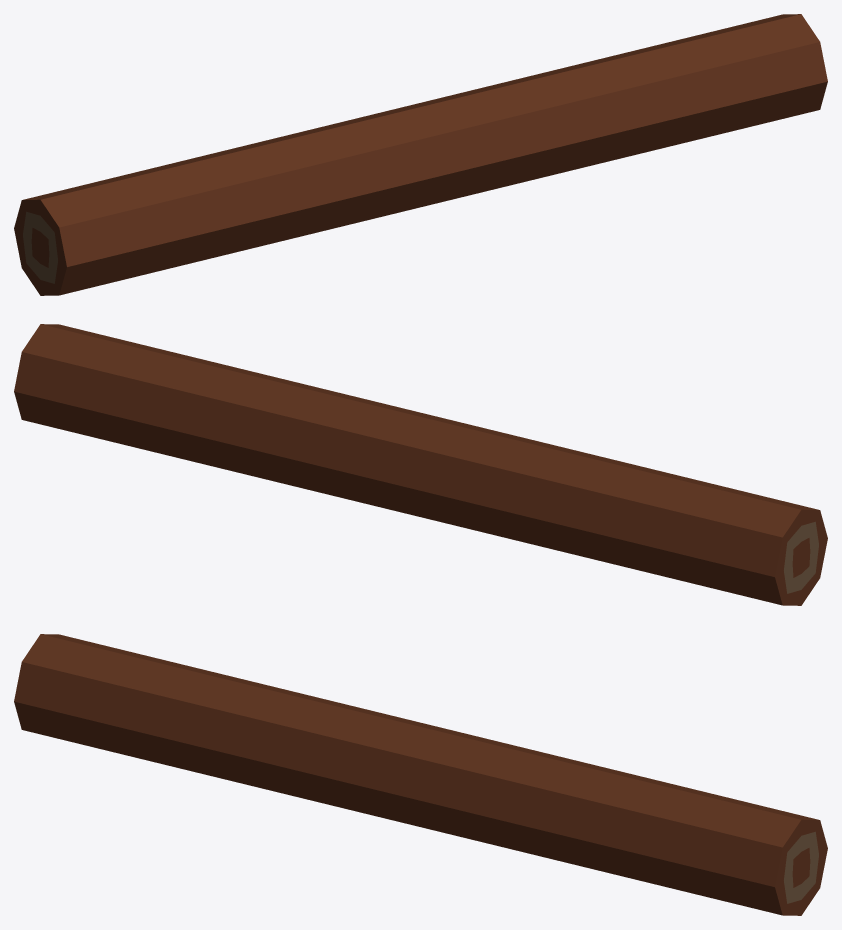
File: stick.fbx
The picture shows the model from 3 angles, top to bottom: view 1: azimuth 30°, elevation 25°; view 2: azimuth 150°, elevation 25°; view 3: azimuth 330°, elevation 25°; orthographic projection.
Parts seen in each view (by area): view 1: Cube; view 2: Cube; view 3: Cube.
Boxes of the visible parts, x1,y1,x2,y2 form: Cube: (14,14,827,295); Cube: (14,324,827,605); Cube: (14,634,827,915).
Bounding box in the file's own units: 600 × 72.43 × 72.43.
